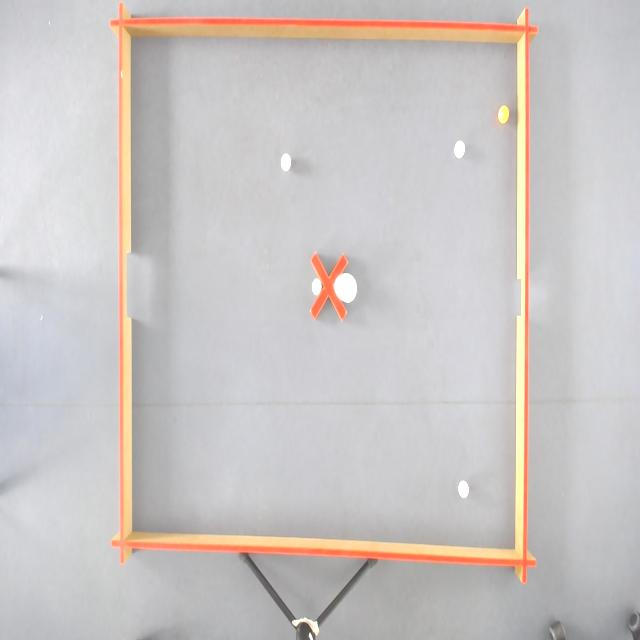cross: (309, 250, 349, 321)
egg: (332, 271, 358, 306)
orange_ball: (498, 104, 510, 124)
white_ball: (452, 138, 467, 160), (279, 152, 293, 174), (457, 478, 470, 501), (311, 276, 323, 296)
